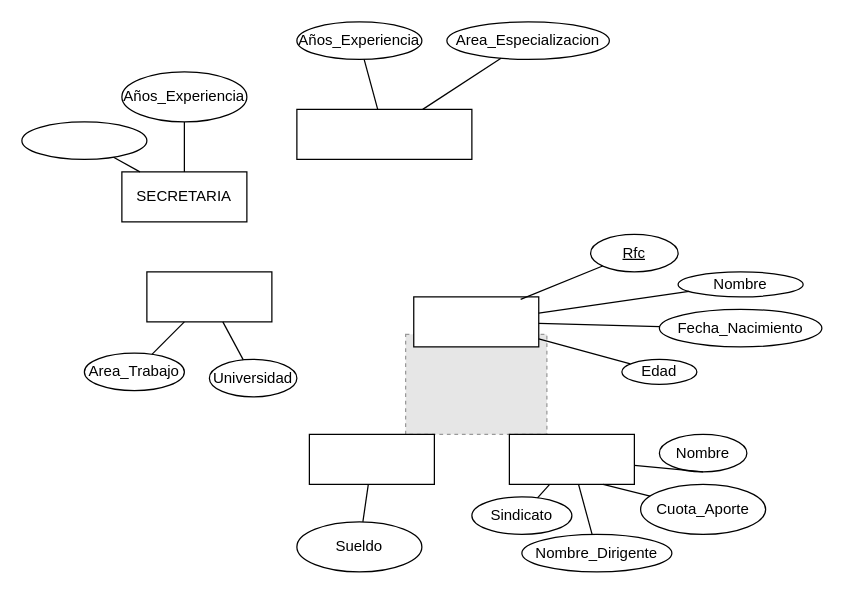
Image size: 844x594. Some labels were removed from this diagram. Grey dashed boxes stand in for pictures. The shapes that lost their labels are listed below. From the top down, each one's centre as x and y in pixels, then its label:
(84,140): Tipo_Paqueteria
(384,133): AYUDANTE_GENERAL
(209,296): INGENIERO
(475,321): EMPLEADO
(371,458): PERMANENTE
(571,458): TEMPORAL
